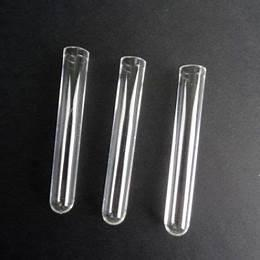Test tube: (43, 44, 216, 251)
